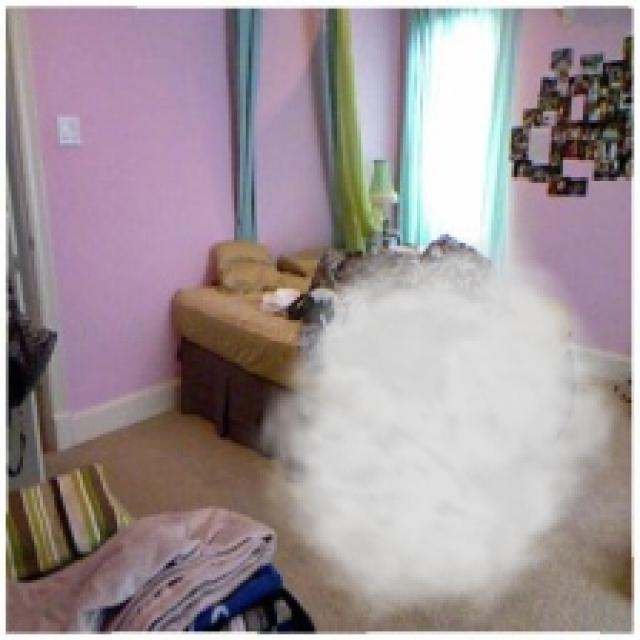smoke: (240, 217, 629, 629)
